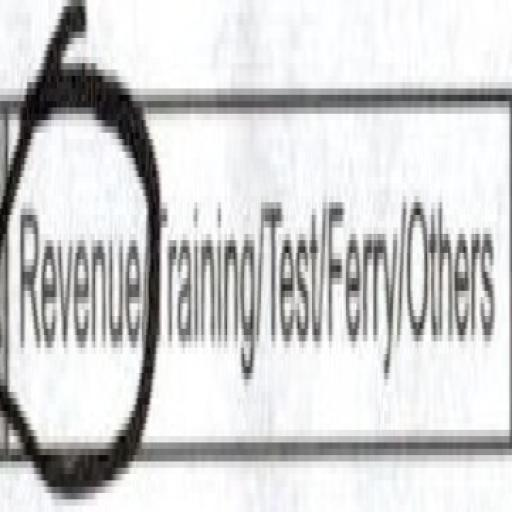check: (0, 0, 162, 512)
